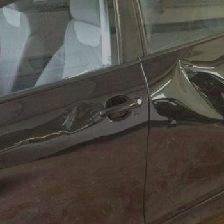door_dent: (2, 73, 175, 155)
